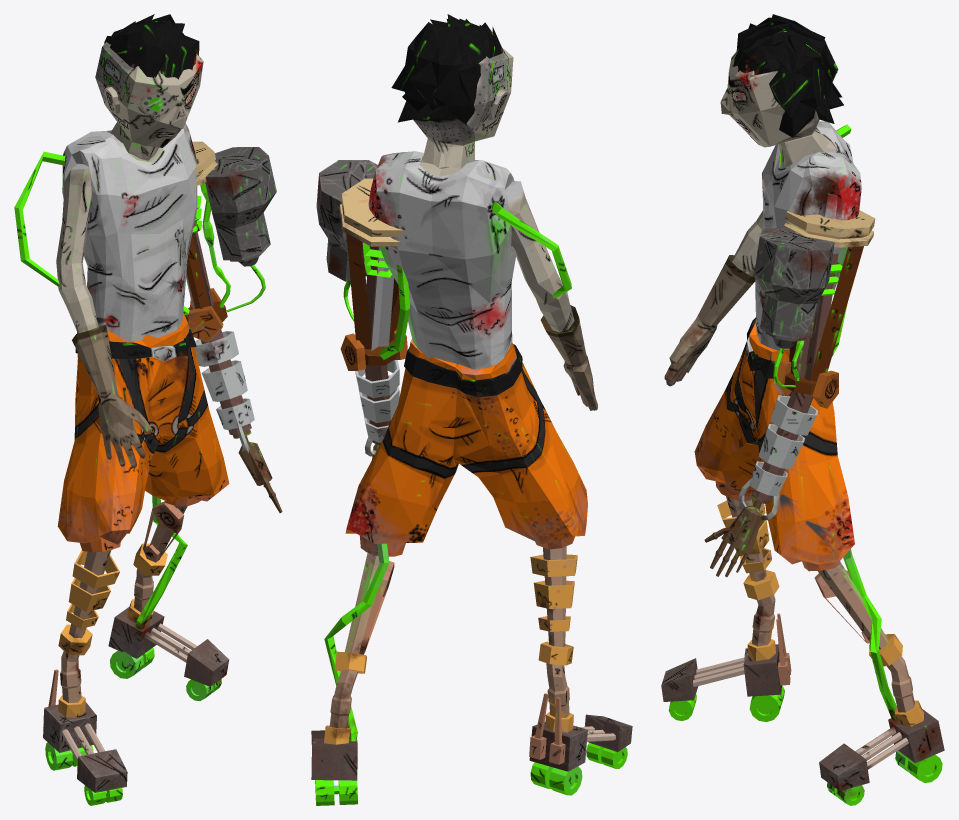
File: CyborgFINALAnimation_000164.obj
3 views of the same model, side by side, from view 1: azimuth 30°, elevation 25°; view 2: azimuth 150°, elevation 25°; view 3: azimuth 270°, elevation 25° (orthographic). The views are drawn at different scales.
Parts seen in each view (by area): view 1: CyborgMesh_Cube.002; view 2: CyborgMesh_Cube.002; view 3: CyborgMesh_Cube.002.
Part boxes in pixels (x1,y1,x2,y2): CyborgMesh_Cube.002: (14,14,282,805); CyborgMesh_Cube.002: (311,14,632,805); CyborgMesh_Cube.002: (661,14,944,805).
Size of the model in its own units: 3.41 by 9.62 by 3.33.
